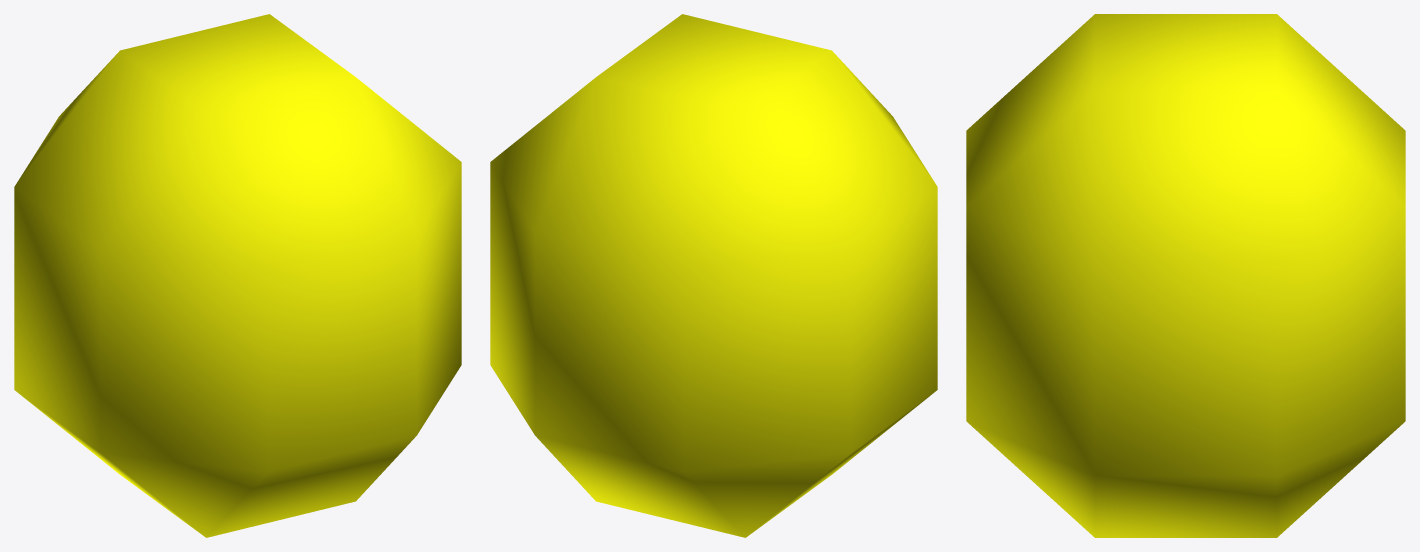
File: base_link.bbox.gltf
The picture shows the model from 3 angles, left to right: view 1: azimuth 30°, elevation 25°; view 2: azimuth 150°, elevation 25°; view 3: azimuth 270°, elevation 25°; orthographic projection. The views are drawn at different scales.
Visible parts, largest first — view 1: base_link.bbox; view 2: base_link.bbox; view 3: base_link.bbox.
Boxes of the visible parts, <box> form: base_link.bbox: <box>14,14,461,537</box>; base_link.bbox: <box>490,14,937,537</box>; base_link.bbox: <box>966,14,1405,537</box>.
Size of the model in its own units: 0.12 by 0.1348 by 0.12.
